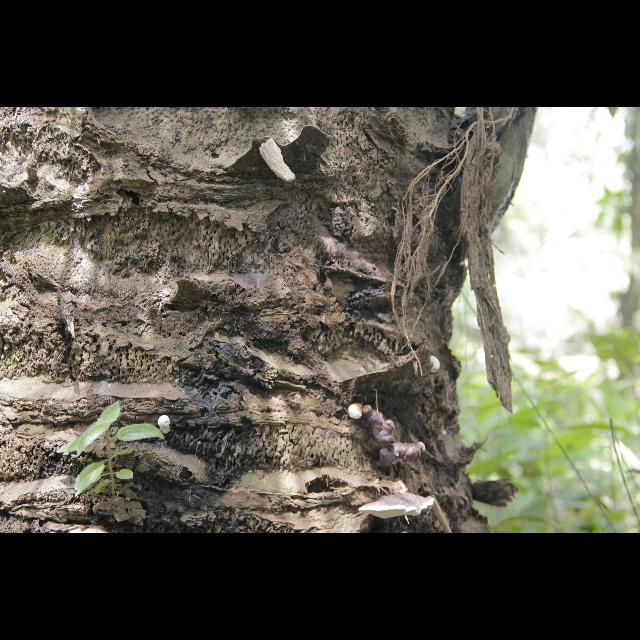ganoderma: (364, 406, 419, 470), (358, 494, 436, 521)
primordium: (160, 415, 173, 435), (349, 405, 363, 422), (430, 357, 442, 376), (419, 443, 427, 455)
